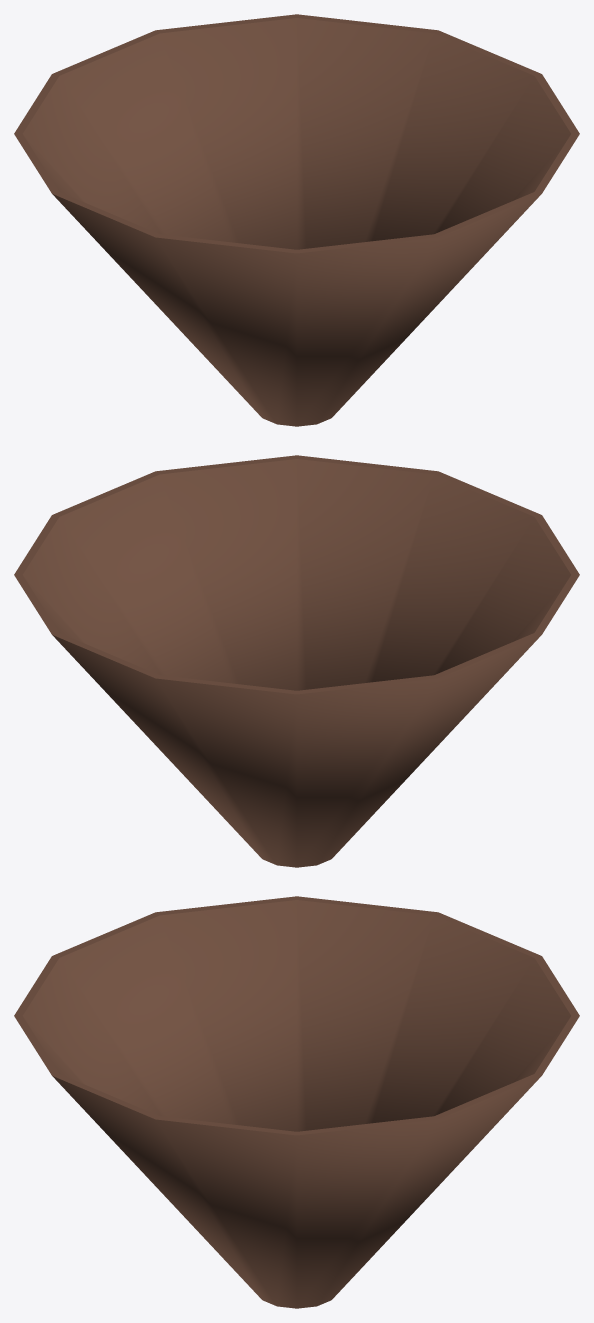
File: Funnel.fbx
The picture shows the model from 3 angles, top to bottom: view 1: azimuth 30°, elevation 25°; view 2: azimuth 150°, elevation 25°; view 3: azimuth 270°, elevation 25°; orthographic projection.
Visible parts, largest first — view 1: Funnel; view 2: Funnel; view 3: Funnel.
Boxes of the visible parts, bbox=[...] form: Funnel: bbox=[14, 14, 579, 426]; Funnel: bbox=[14, 455, 579, 867]; Funnel: bbox=[14, 896, 579, 1308].
Size of what is drawn, in the model's own units: 25.49 by 13.71 by 25.49.
